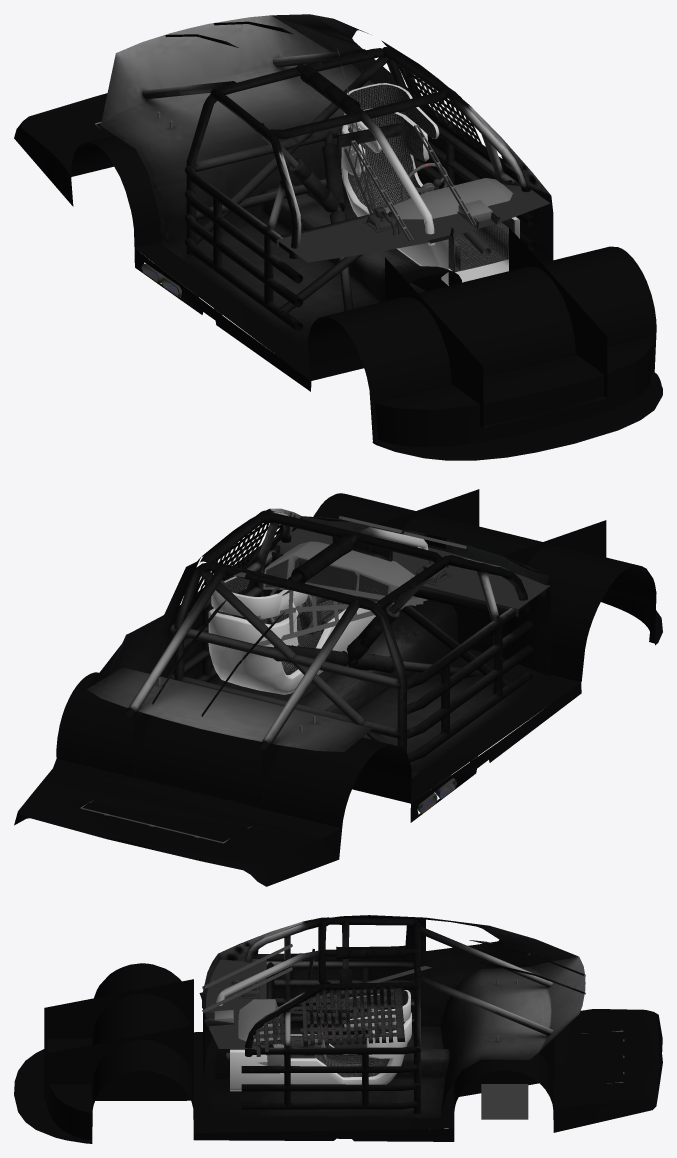
File: nascar_int.glb
3 views of the same model, one above another, from view 1: azimuth 30°, elevation 25°; view 2: azimuth 150°, elevation 25°; view 3: azimuth 270°, elevation 25° (orthographic). The views are drawn at different scales.
Parts seen in each view (by area): view 1: CAMARO_Interior_Inside_frame_baked_0, CAMARO_NewSeat_Material #4084_0, CAMARO_GaugeCluster_Material #4096_0, CAMARO_NewSeat_Carbon Fiber_0, CAMARO_GaugeCluster_Carbon Fiber_0, CAMARO_Interior_black trim_0, CAMARO_WindowNet_inside_frame_details_0; view 2: CAMARO_Interior_Inside_frame_baked_0, CAMARO_NewSeat_Carbon Fiber_0, CAMARO_GaugeCluster_Material #4096_0, CAMARO_GaugeCluster_Carbon Fiber_0, CAMARO_Interior_black trim_0, CAMARO_NewSeat_Material #4084_0, CAMARO_WindowNet_inside_frame_details_0; view 3: CAMARO_Interior_Inside_frame_baked_0, CAMARO_WindowNet_inside_frame_details_0, CAMARO_NewSeat_Carbon Fiber_0, CAMARO_GaugeCluster_Material #4096_0, CAMARO_Interior_black trim_0, CAMARO_GaugeCluster_Carbon Fiber_0, CAMARO_NewSeat_Material #4084_0.
Boxes of the visible parts, x1,y1,x2,y2 form: CAMARO_Interior_Inside_frame_baked_0: (14, 14, 662, 460); CAMARO_NewSeat_Material #4084_0: (348, 84, 514, 271); CAMARO_GaugeCluster_Material #4096_0: (276, 179, 550, 262); CAMARO_NewSeat_Carbon Fiber_0: (341, 83, 519, 285); CAMARO_GaugeCluster_Carbon Fiber_0: (384, 178, 512, 221); CAMARO_Interior_black trim_0: (157, 48, 476, 241); CAMARO_WindowNet_inside_frame_details_0: (403, 67, 514, 172); CAMARO_Interior_Inside_frame_baked_0: (14, 489, 662, 886); CAMARO_NewSeat_Carbon Fiber_0: (208, 576, 375, 694); CAMARO_GaugeCluster_Material #4096_0: (265, 526, 549, 616); CAMARO_GaugeCluster_Carbon Fiber_0: (263, 541, 417, 610); CAMARO_Interior_black trim_0: (104, 516, 466, 838); CAMARO_NewSeat_Material #4084_0: (217, 577, 345, 675); CAMARO_WindowNet_inside_frame_details_0: (190, 510, 283, 605); CAMARO_Interior_Inside_frame_baked_0: (14, 915, 662, 1143); CAMARO_WindowNet_inside_frame_details_0: (253, 988, 405, 1056); CAMARO_NewSeat_Carbon Fiber_0: (230, 990, 411, 1091); CAMARO_GaugeCluster_Material #4096_0: (204, 959, 313, 1064); CAMARO_Interior_black trim_0: (202, 944, 624, 1119); CAMARO_GaugeCluster_Carbon Fiber_0: (214, 999, 284, 1065); CAMARO_NewSeat_Material #4084_0: (230, 990, 408, 1077).
Bounding box in the file's own units: 1.95 × 1.24 × 5.
Materials: 12 (4 with a texture image).
